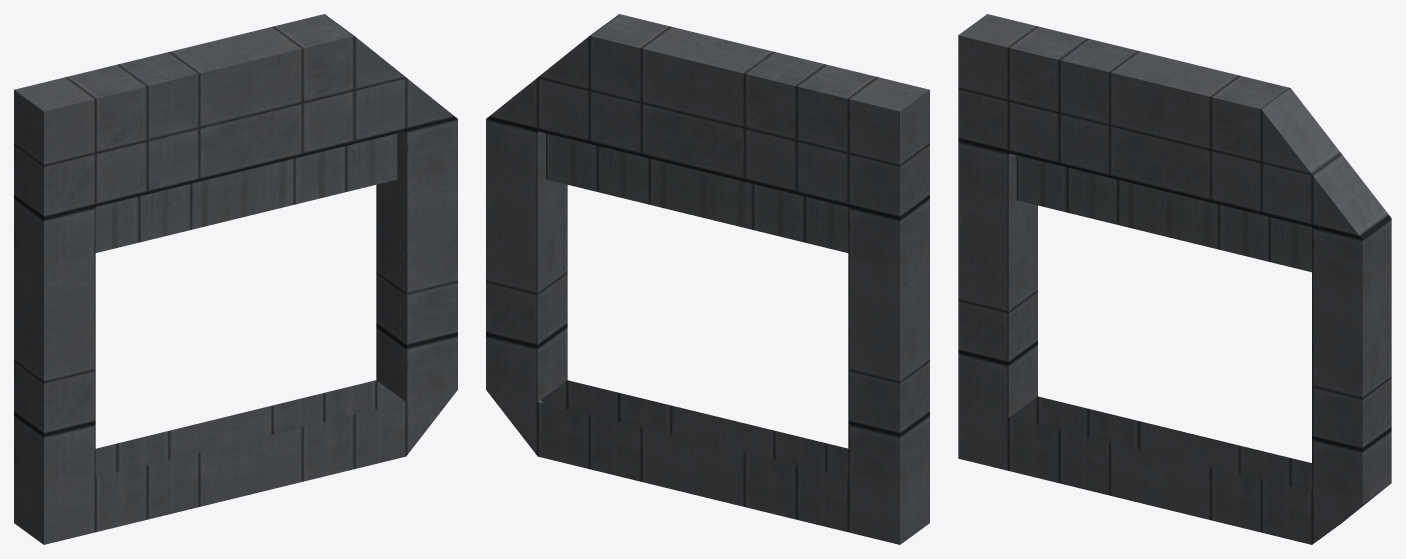
Rendered from Neon_TrailerDoorCap_8x8_01.FBX.
3 views of the same model, side by side, from view 1: azimuth 30°, elevation 25°; view 2: azimuth 150°, elevation 25°; view 3: azimuth 330°, elevation 25° (orthographic). The views are drawn at different scales.
Parts seen in each view (by area): view 1: Neon_TrailerDoorCap_8x8_01; view 2: Neon_TrailerDoorCap_8x8_01; view 3: Neon_TrailerDoorCap_8x8_01.
Boxes of the visible parts, x1,y1,x2,y2 form: Neon_TrailerDoorCap_8x8_01: (14,14,457,544); Neon_TrailerDoorCap_8x8_01: (486,14,929,544); Neon_TrailerDoorCap_8x8_01: (958,14,1391,544).
Bounding box in the file's own units: 8 × 8 × 1.
